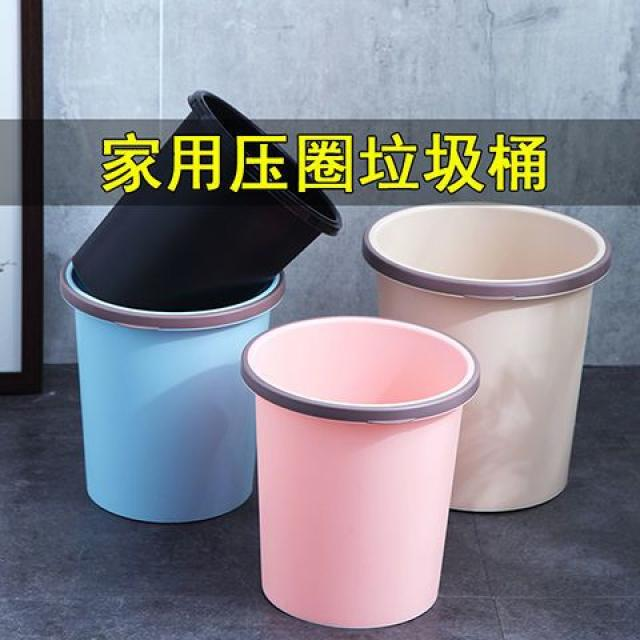dustbin: (363, 202, 620, 519), (237, 311, 487, 636), (57, 245, 290, 527)
